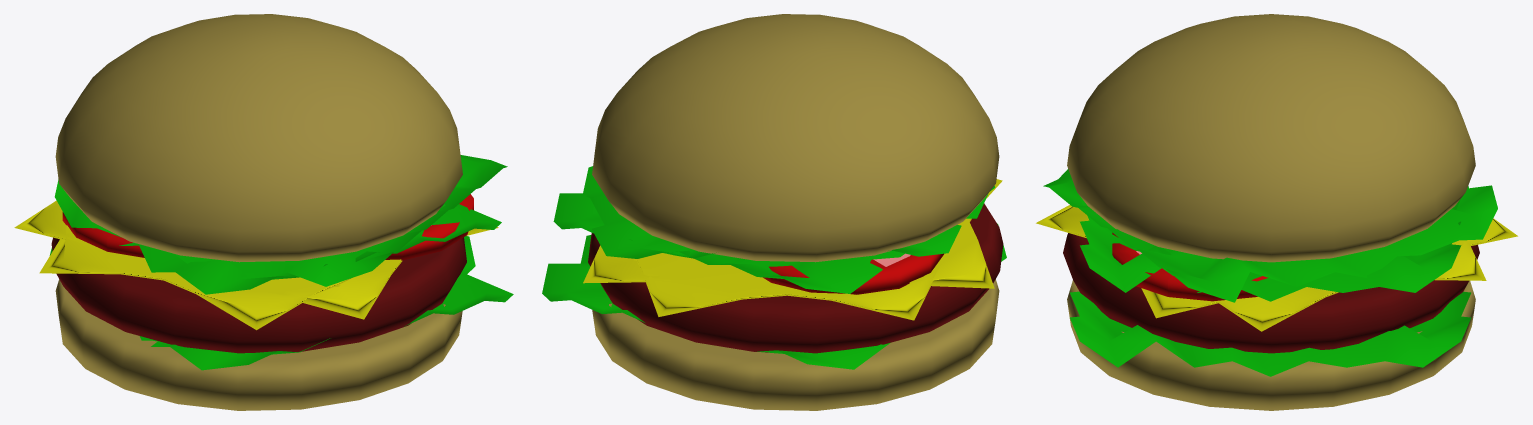
The picture shows the model from 3 angles, left to right: view 1: azimuth 30°, elevation 25°; view 2: azimuth 150°, elevation 25°; view 3: azimuth 270°, elevation 25°; orthographic projection.
Visible parts, largest first — view 1: hamburgerBunTop, hamburgerBunBottom, hamburgerPatty, lettuce3, cheeseSlice, cheeseSlice1, lettuce2, lettuce1, tomatoSlice, tomatoSlice2; view 2: hamburgerBunTop, hamburgerBunBottom, hamburgerPatty, cheeseSlice, cheeseSlice1, lettuce2, lettuce3, lettuce1, tomatoSlice2; view 3: hamburgerBunTop, hamburgerPatty, hamburgerBunBottom, lettuce3, lettuce1, lettuce2, cheeseSlice, cheeseSlice1, tomatoSlice.
Boxes of the visible parts, x1,y1,x2,y2 form: hamburgerBunTop: [55, 14, 462, 262]; hamburgerBunBottom: [55, 279, 462, 410]; hamburgerPatty: [51, 237, 466, 353]; lettuce3: [54, 155, 507, 286]; cheeseSlice: [39, 225, 402, 319]; cheeseSlice1: [14, 200, 498, 330]; lettuce2: [119, 203, 501, 294]; lettuce1: [49, 236, 513, 370]; tomatoSlice: [385, 194, 473, 260]; tomatoSlice2: [62, 212, 144, 257]; hamburgerBunTop: [592, 14, 999, 262]; hamburgerBunBottom: [592, 279, 999, 410]; hamburgerPatty: [588, 203, 1003, 353]; cheeseSlice: [636, 221, 994, 316]; cheeseSlice1: [583, 179, 1002, 320]; lettuce2: [553, 186, 995, 293]; lettuce3: [583, 166, 961, 258]; lettuce1: [542, 223, 1006, 369]; tomatoSlice2: [763, 253, 943, 294]; hamburgerBunTop: [1067, 14, 1475, 262]; hamburgerPatty: [1063, 233, 1479, 353]; hamburgerBunBottom: [1067, 280, 1475, 410]; lettuce3: [1043, 169, 1497, 302]; lettuce1: [1070, 291, 1470, 376]; lettuce2: [1080, 198, 1461, 301]; cheeseSlice: [1036, 205, 1517, 331]; cheeseSlice1: [1141, 240, 1486, 318]; tomatoSlice: [1112, 232, 1268, 301].
Size of the model in its own units: 73.94 by 47.73 by 73.24.
